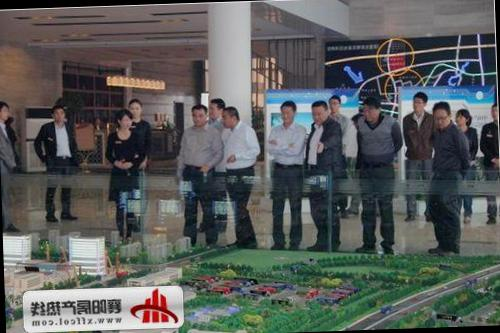no_helmet: (358, 91, 382, 120), (274, 96, 298, 125), (188, 103, 212, 130), (310, 98, 334, 124), (428, 99, 450, 127), (408, 88, 428, 118), (222, 104, 243, 130), (208, 94, 226, 122), (48, 101, 68, 125), (116, 106, 134, 131), (453, 108, 473, 129), (0, 95, 12, 127), (128, 95, 143, 120), (328, 92, 344, 112)
